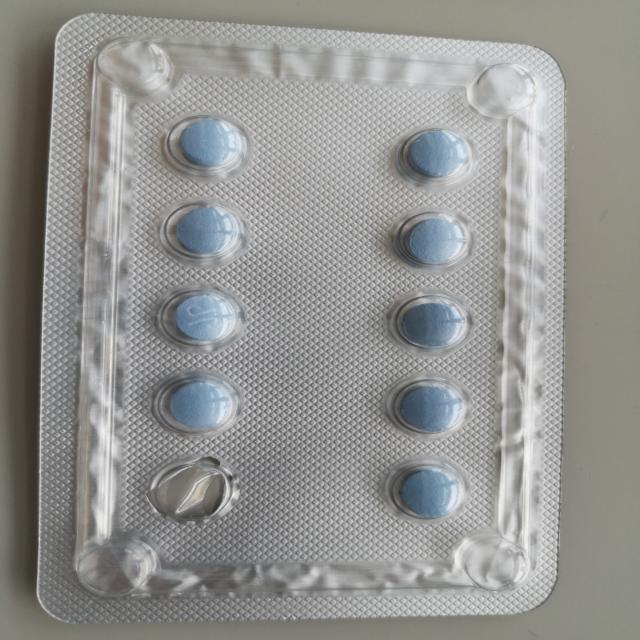Empty: (132, 453, 256, 541)
Pill: (140, 105, 270, 181), (368, 116, 492, 191), (372, 288, 492, 364), (153, 282, 256, 369), (373, 207, 482, 288), (153, 192, 251, 274), (372, 459, 476, 536), (379, 370, 476, 449), (140, 374, 256, 439)
